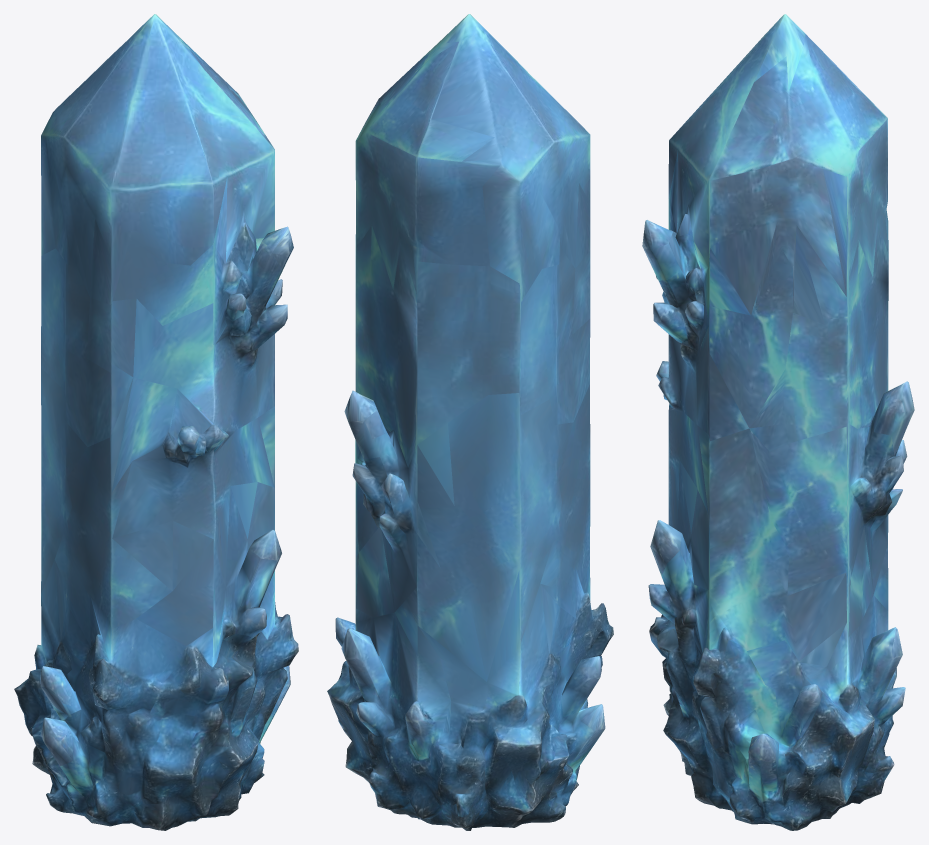
Rendered from crystal.glb.
3 renders of one model, left to right at view 1: azimuth 30°, elevation 25°; view 2: azimuth 150°, elevation 25°; view 3: azimuth 270°, elevation 25°, orthographic.
Parts seen in each view (by area): view 1: crystal; view 2: crystal; view 3: crystal.
Part boxes in pixels (box(x1,y1,x2,y2)): crystal: box(14, 14, 298, 830); crystal: box(327, 14, 613, 830); crystal: box(642, 14, 914, 830).
Bounding box in the file's own units: 0.6622 × 2 × 0.6393.
1 material, 1 textured.
